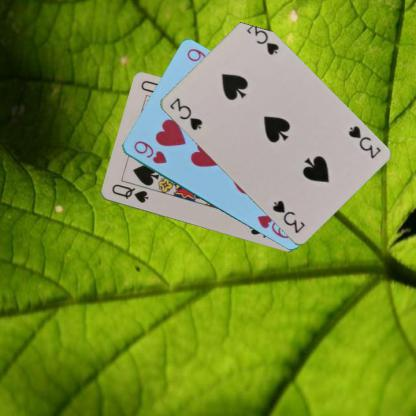3s: (166, 94, 204, 132), (345, 123, 381, 160)
9h: (131, 138, 168, 165)
Qs: (108, 182, 150, 204)
